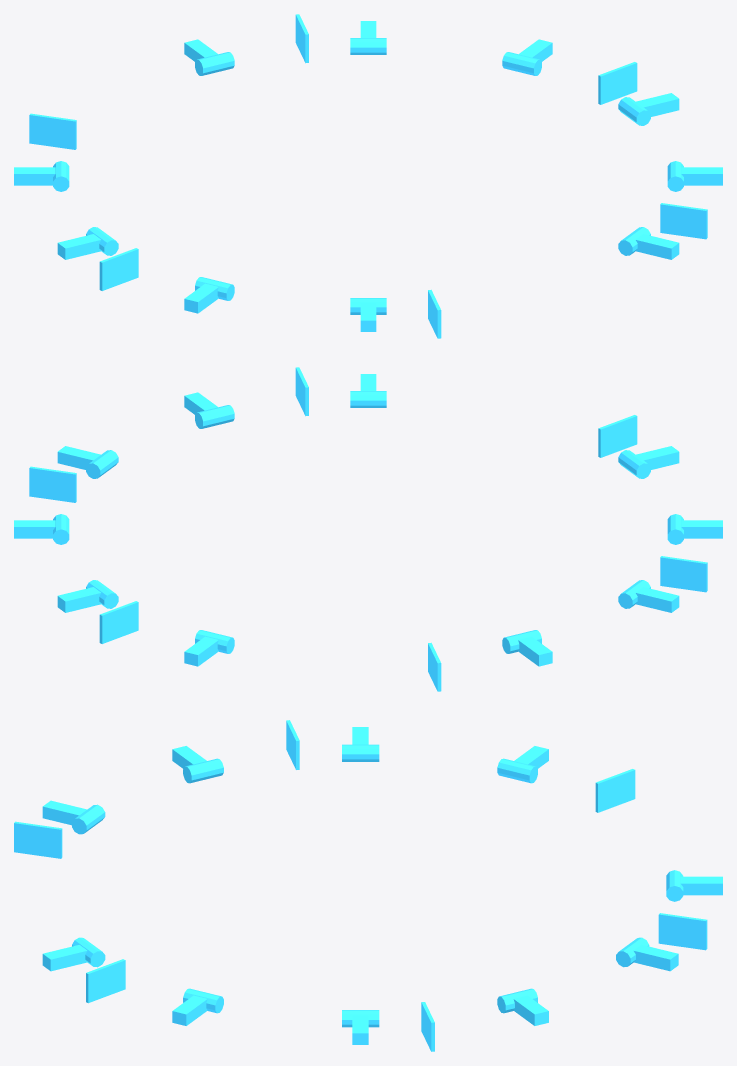
File: jarvis_radial_segment.glb
The picture shows the model from 3 angles, top to bottom: view 1: azimuth 30°, elevation 25°; view 2: azimuth 150°, elevation 25°; view 3: azimuth 270°, elevation 25°; orthographic projection. The views are drawn at different scales.
Visible parts, largest first — view 1: JCC_RadialMechanicalSegment; view 2: JCC_RadialMechanicalSegment; view 3: JCC_RadialMechanicalSegment.
Part boxes in pixels (<box>): JCC_RadialMechanicalSegment: <box>14,14,722,338</box>; JCC_RadialMechanicalSegment: <box>14,367,722,691</box>; JCC_RadialMechanicalSegment: <box>14,720,722,1051</box>.
Bounding box in the file's own units: 34.95 × 1.55 × 34.19.
